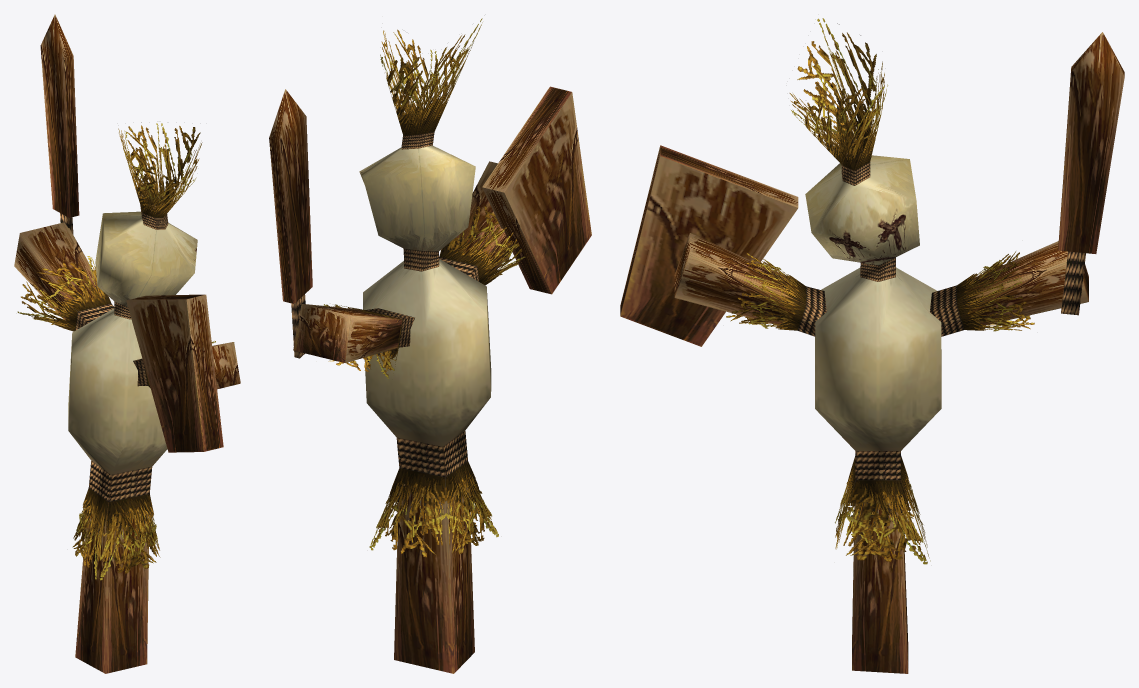
The model's file is stormwindwoodendummy01.glb.
The picture shows the model from 3 angles, left to right: view 1: azimuth 30°, elevation 25°; view 2: azimuth 150°, elevation 25°; view 3: azimuth 270°, elevation 25°; orthographic projection. The views are drawn at different scales.
Bounding box in the file's own units: 0.5759 × 2.53 × 1.78.
1 material, 1 textured.
